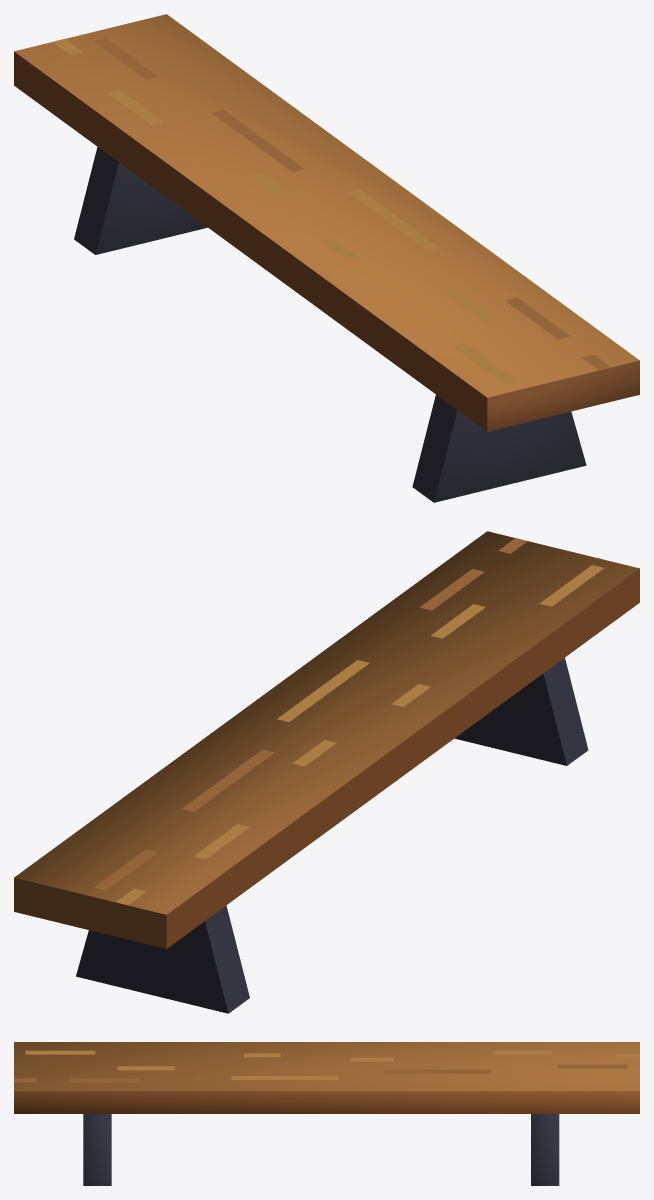
The model's file is bc_Bench_01.FBX.
3 views of the same model, one above another, from view 1: azimuth 30°, elevation 25°; view 2: azimuth 150°, elevation 25°; view 3: azimuth 270°, elevation 25° (orthographic). The views are drawn at different scales.
Visible parts, largest first — view 1: bc_Bench_01; view 2: bc_Bench_01; view 3: bc_Bench_01.
Part boxes in pixels (x1,y1,x2,y2): bc_Bench_01: [14, 14, 639, 502]; bc_Bench_01: [14, 531, 639, 1013]; bc_Bench_01: [14, 1042, 639, 1185].
Bounding box in the file's own units: 28.2 × 150 × 25.16.
